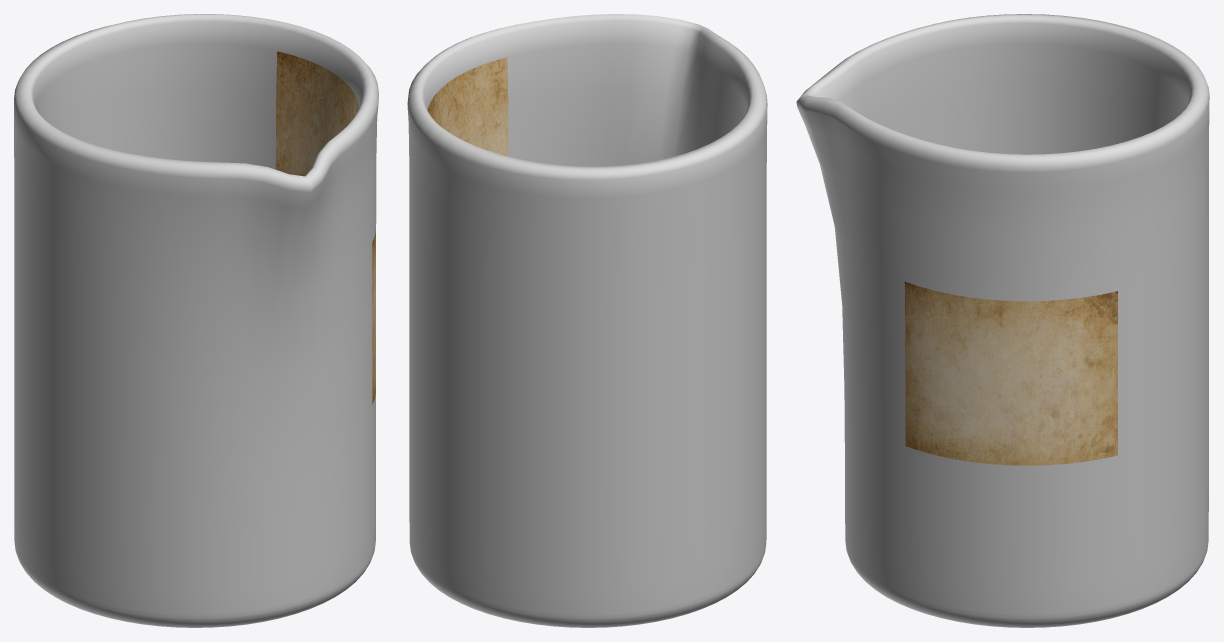
The model's file is beaker2.fbx.
The picture shows the model from 3 angles, left to right: view 1: azimuth 30°, elevation 25°; view 2: azimuth 150°, elevation 25°; view 3: azimuth 270°, elevation 25°; orthographic projection.
Visible parts, largest first — view 1: Circle; view 2: Circle; view 3: Circle.
Part boxes in pixels (<box>): Circle: <box>14,14,378,627</box>; Circle: <box>407,14,767,627</box>; Circle: <box>796,14,1209,627</box>.
Bounding box in the file's own units: 9.27 × 13.32 × 10.45.
Materials: 2 (1 with a texture image).
